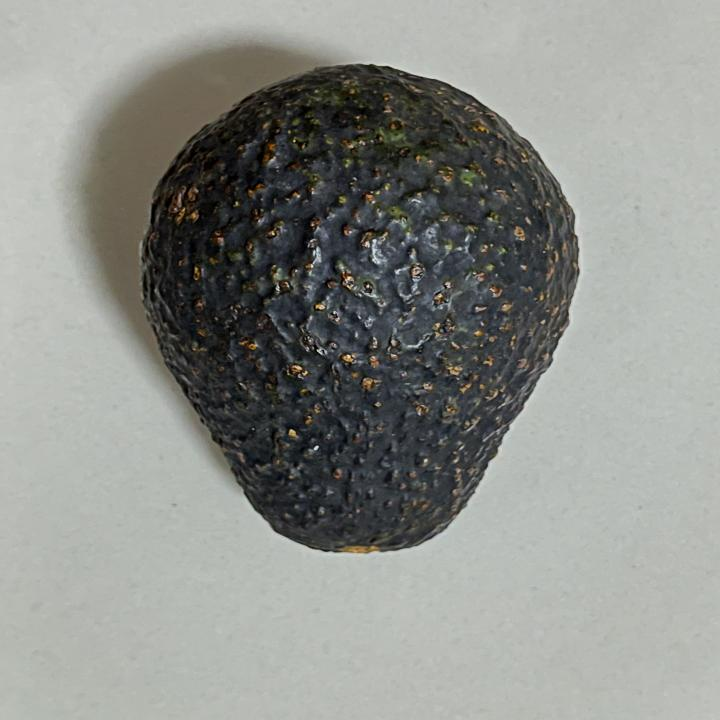Level2: (134, 59, 586, 565)
